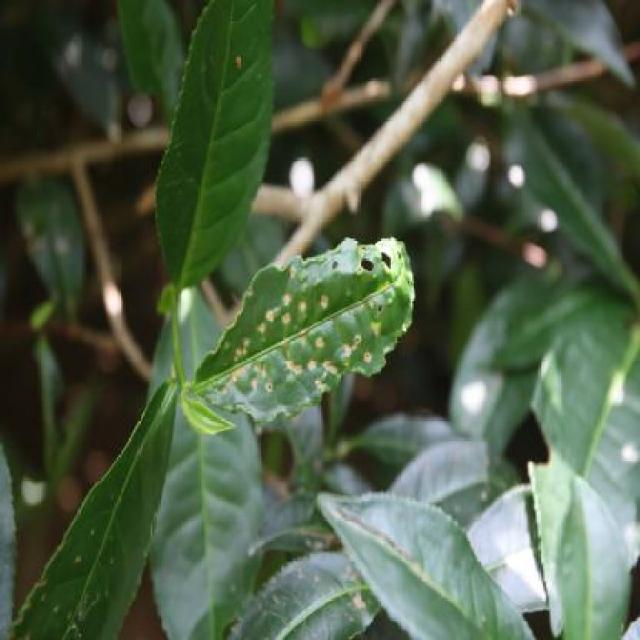Tea Mosquito bug infested leaf: (183, 232, 432, 408)
